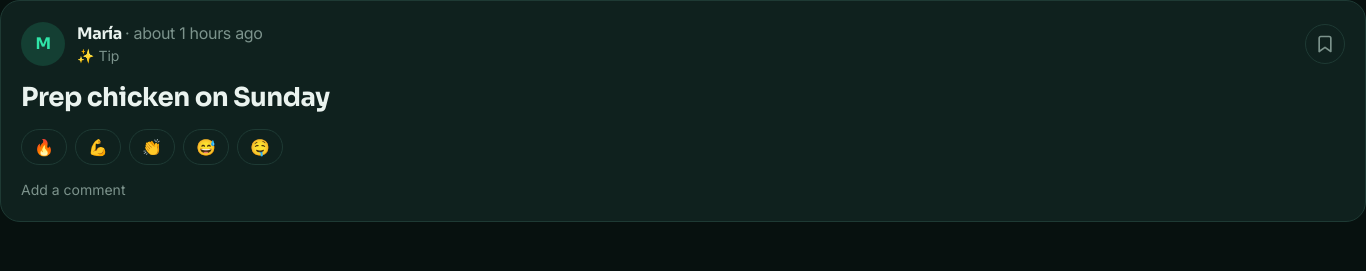
Test case: saving › names the missing table rather than blaming the reader
Click the button named "Save Prep chicken on Sunday" at (1325, 44), box [1305, 24, 1345, 64]
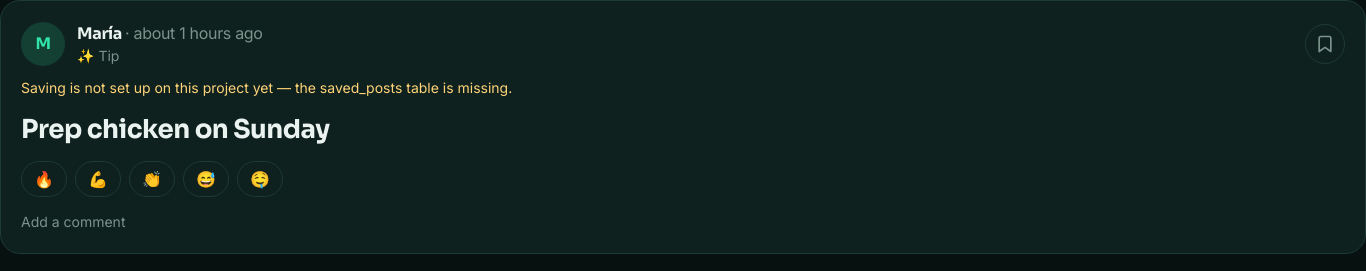
Result: the text "Saving is not set up on this project yet — the saved_posts table is missing." is shown at [21, 79, 512, 96]
